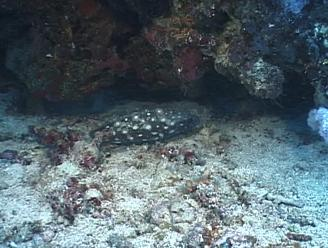Serranidae -Groupers-: (87, 104, 204, 161)
